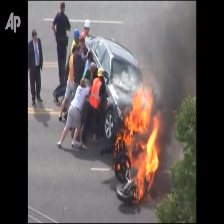fire_h: (122, 80, 159, 201)
fire_l: (114, 132, 120, 155), (116, 163, 120, 170), (126, 160, 129, 169)
